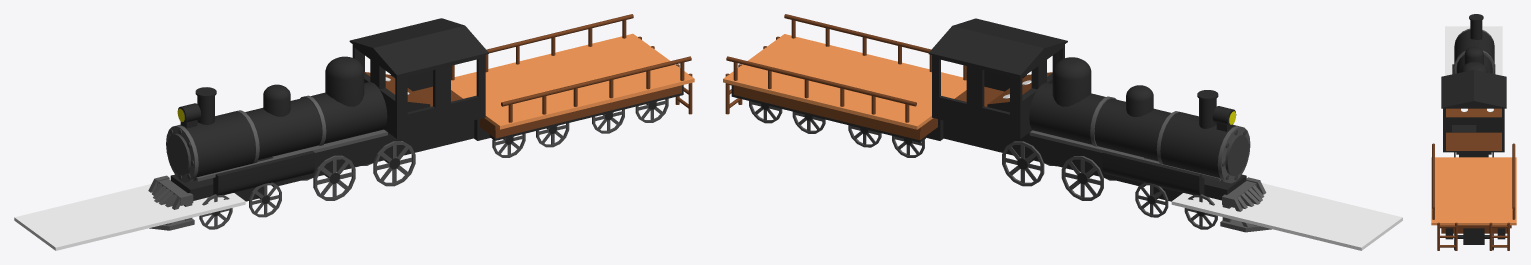
Rendered from Low_Poly_Train_With_Open_Carriage.glb.
3 views of the same model, side by side, from view 1: azimuth 30°, elevation 25°; view 2: azimuth 150°, elevation 25°; view 3: azimuth 270°, elevation 25° (orthographic). The views are drawn at different scales.
Visible parts, largest first — view 1: Cube.008_Material.003_0, Cube_Material.002_0, Cube.005__0, Cube.003_Material.001_0, Cylinder.025_Material.006_0, Cylinder.012_Material.004_0, Cylinder.011_Material.004_0, Cylinder.001_Material.007_0, Cylinder.015_Material.004_0, Cylinder.016_Material.004_0, Cylinder.006_Material.004_0, Cylinder.009_Material.004_0 (+2 smaller); view 2: Cube.008_Material.003_0, Cube_Material.002_0, Cube.005__0, Cube.003_Material.001_0, Cylinder.025_Material.006_0, Cylinder.011_Material.004_0, Cylinder.012_Material.004_0, Cylinder.001_Material.007_0, Cylinder.015_Material.004_0, Cylinder.016_Material.004_0; view 3: Cube.008_Material.003_0, Cube_Material.002_0, Cube.003_Material.001_0, Cube.005__0, Cylinder.025_Material.006_0.
Boxes of the visible parts, x1,y1,x2,y2 form: Cube.008_Material.003_0: [170, 18, 683, 216]; Cube_Material.002_0: [451, 33, 694, 129]; Cube.005__0: [14, 179, 245, 250]; Cube.003_Material.001_0: [364, 14, 692, 138]; Cylinder.025_Material.006_0: [148, 95, 387, 230]; Cylinder.012_Material.004_0: [302, 155, 355, 200]; Cylinder.011_Material.004_0: [362, 141, 415, 186]; Cylinder.001_Material.007_0: [166, 129, 194, 179]; Cylinder.015_Material.004_0: [249, 182, 281, 217]; Cylinder.016_Material.004_0: [199, 194, 232, 229]; Cylinder.006_Material.004_0: [492, 133, 525, 157]; Cylinder.009_Material.004_0: [536, 123, 569, 147]; Cube.008_Material.003_0: [731, 18, 1246, 216]; Cube_Material.002_0: [723, 34, 966, 129]; Cube.005__0: [1171, 183, 1402, 250]; Cube.003_Material.001_0: [725, 14, 1052, 140]; Cylinder.025_Material.006_0: [1029, 96, 1271, 232]; Cylinder.011_Material.004_0: [1002, 141, 1056, 186]; Cylinder.012_Material.004_0: [1061, 156, 1115, 200]; Cylinder.001_Material.007_0: [1222, 130, 1250, 180]; Cylinder.015_Material.004_0: [1135, 182, 1168, 217]; Cylinder.016_Material.004_0: [1184, 194, 1217, 229]; Cube.008_Material.003_0: [1441, 14, 1506, 244]; Cube_Material.002_0: [1431, 157, 1516, 225]; Cube.003_Material.001_0: [1432, 108, 1515, 250]; Cube.005__0: [1445, 26, 1502, 75]; Cylinder.025_Material.006_0: [1454, 28, 1494, 73].
Bounding box in the file's own units: 25.1 × 4.91 × 4.23.
